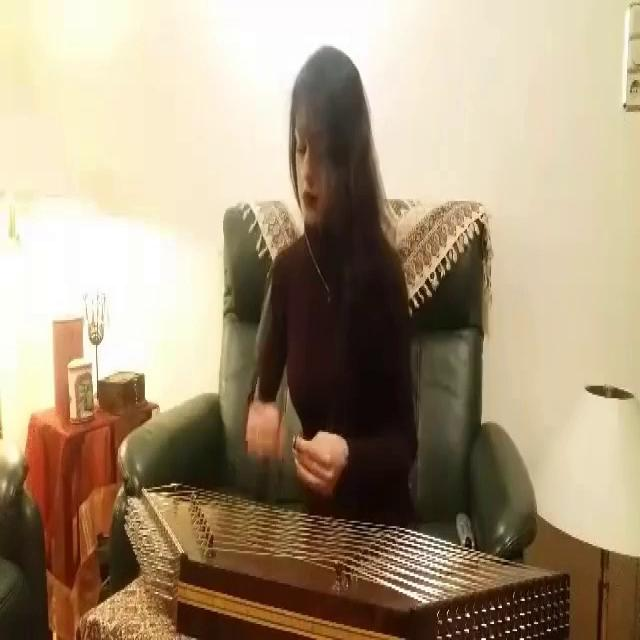Santur: (119, 460, 585, 640)
